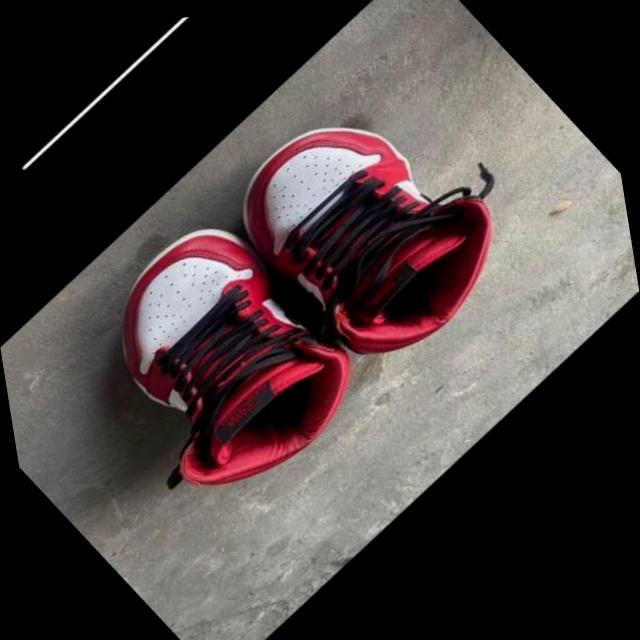nike_fake_jordan: (40, 180, 398, 546), (190, 48, 544, 410)
